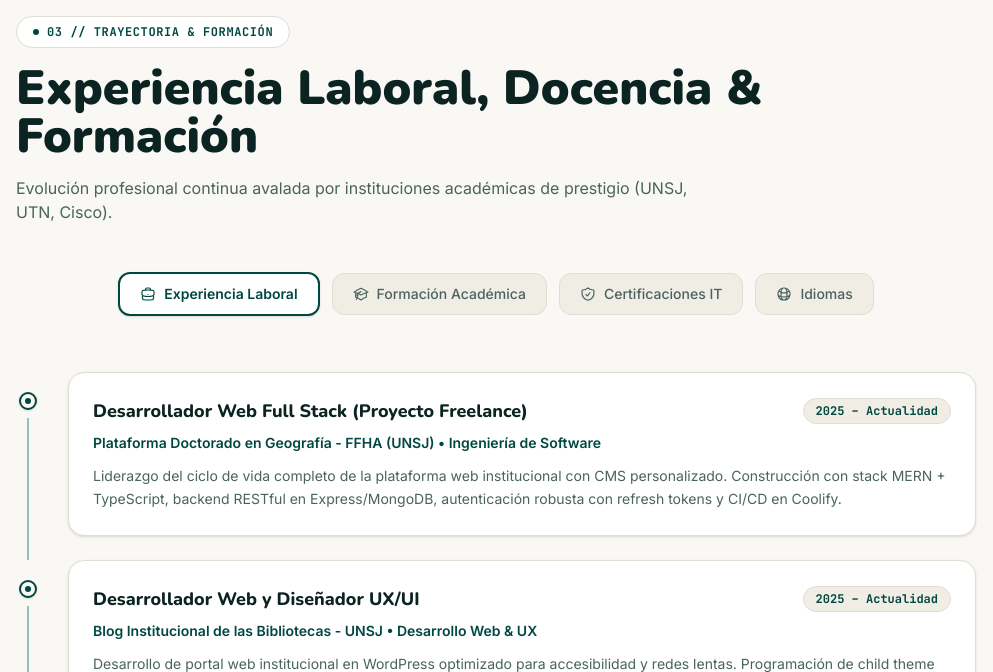
Test: TimelineSection › switches tab to Idiomas and displays language proficiencies
The image size is (993, 672).
Click the button "Idiomas". click: (815, 294)
box: [755, 273, 874, 315]
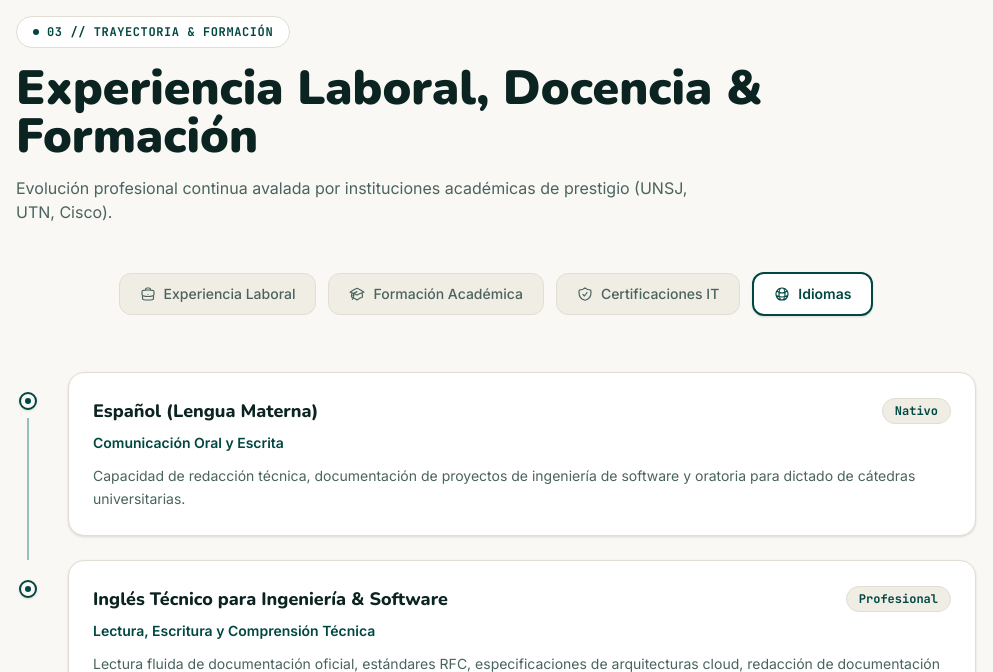
Check: the heading "Español (Lengua Materna)" is shown, box [93, 397, 318, 425]
Check: the heading "Inglés Técnico para Ingeniería & Software" is shown, box [93, 584, 448, 612]
